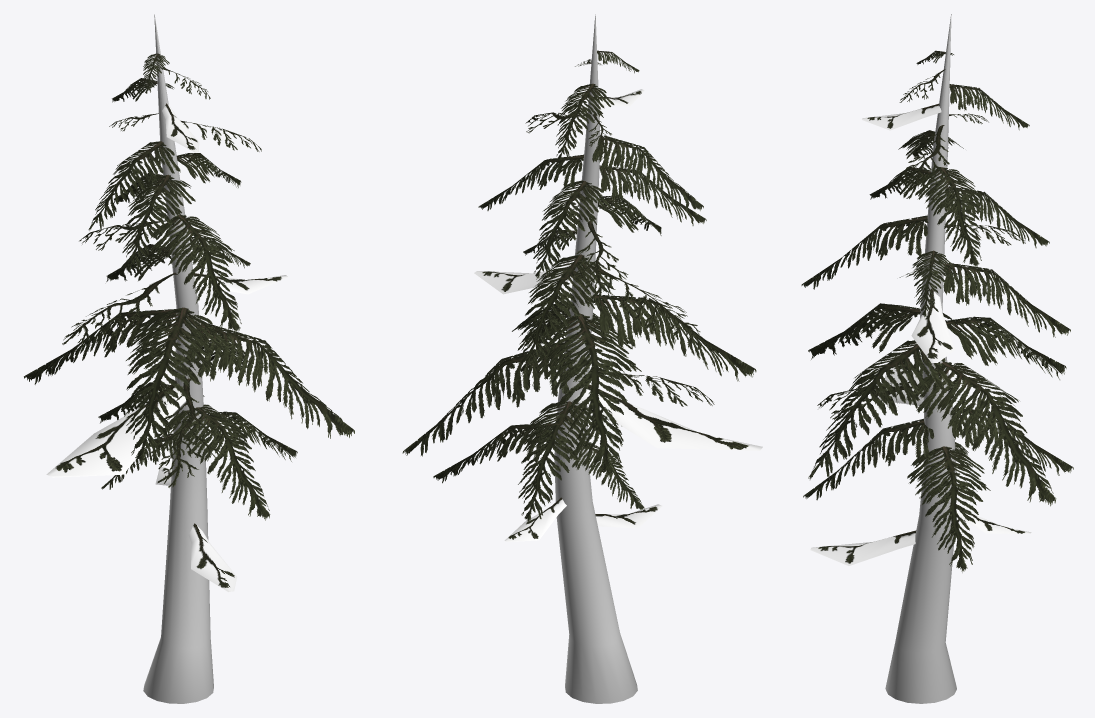
Rendered from Träd1PivotFixed.fbx.
The picture shows the model from 3 angles, left to right: view 1: azimuth 30°, elevation 25°; view 2: azimuth 150°, elevation 25°; view 3: azimuth 270°, elevation 25°; orthographic projection. The views are drawn at different scales.
Visible parts, largest first — view 1: Träd1_LOD0; view 2: Träd1_LOD0; view 3: Träd1_LOD0.
Boxes of the visible parts, <box> form: Träd1_LOD0: <box>24,14,354,703</box>; Träd1_LOD0: <box>402,14,762,703</box>; Träd1_LOD0: <box>801,14,1073,703</box>.
Size of what is drawn, in the model's own units: 1113 by 2441 by 947.
